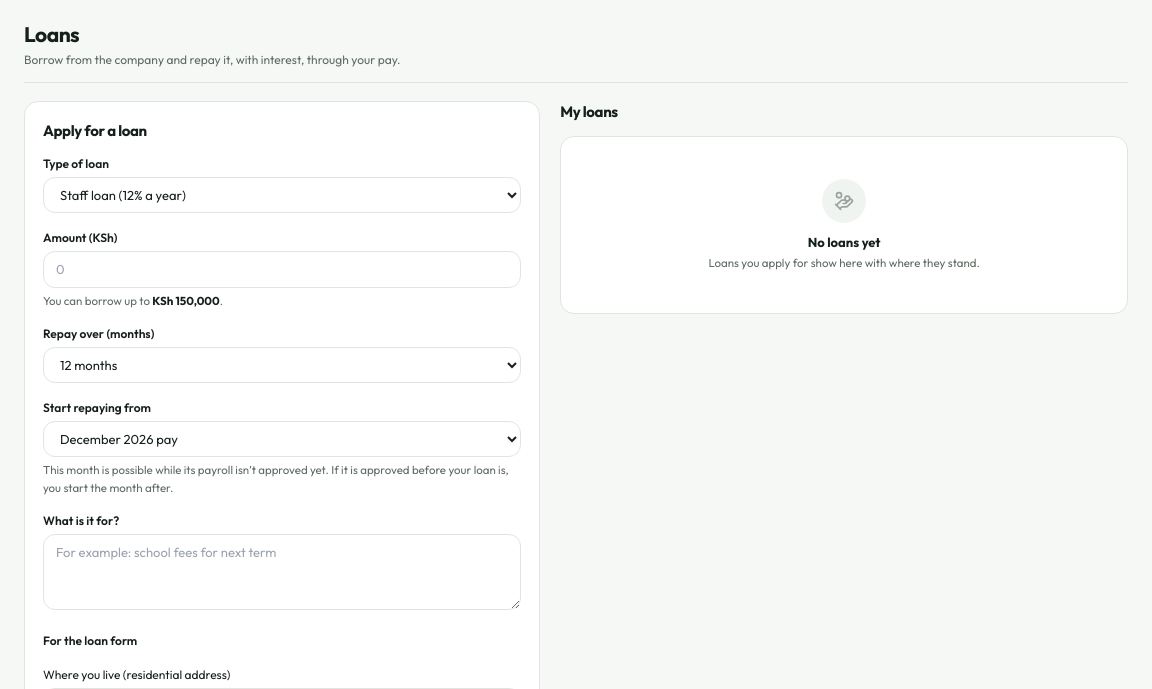
Scenario: applying for a loan › works out the instalment, the interest and the total as they type
Expected: the text "KSh 150,000" is shown, [152, 293, 220, 308]
In the number field labelled "Amount (KSh)": (282, 269) [43, 250, 521, 288], type "100000"
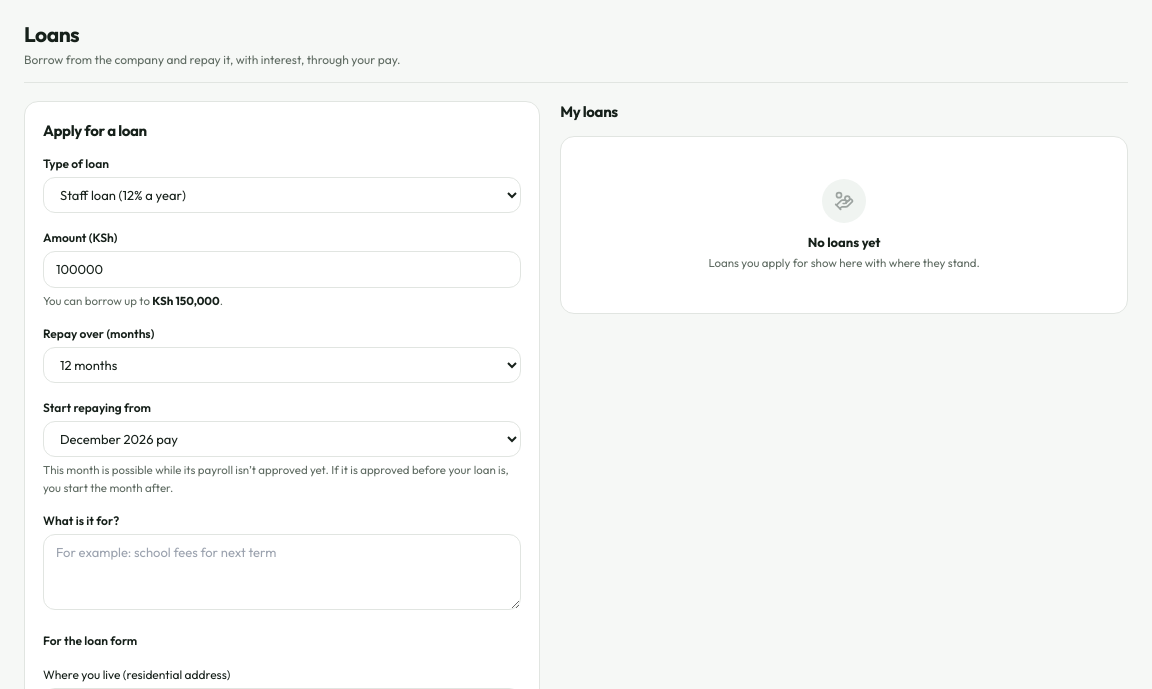
# a loan type with its own (flat) rate and a shorter longest term
Select "School fees loan (6% a year, up to 6 months)" in the dropdown labelled "Type of loan": (282, 194) [43, 176, 521, 212]
(page scrolled)
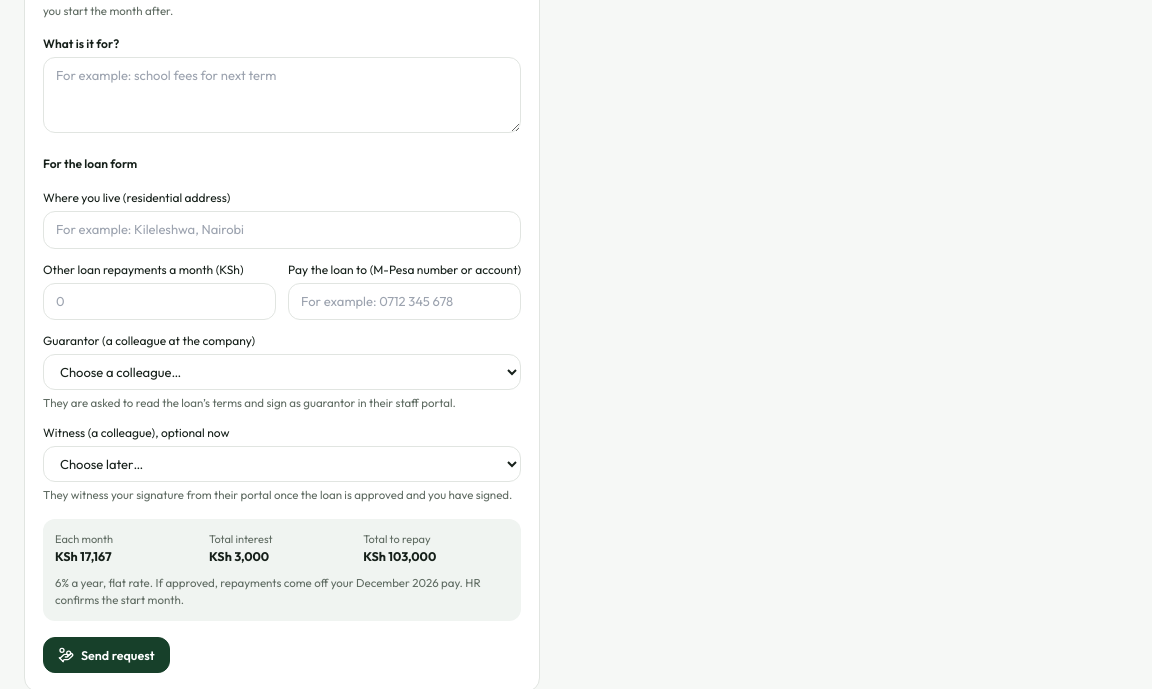
Now the text "KSh 3,000" is shown, box [209, 548, 269, 564]
Now the text "KSh 103,000" is shown, box [363, 548, 436, 564]
